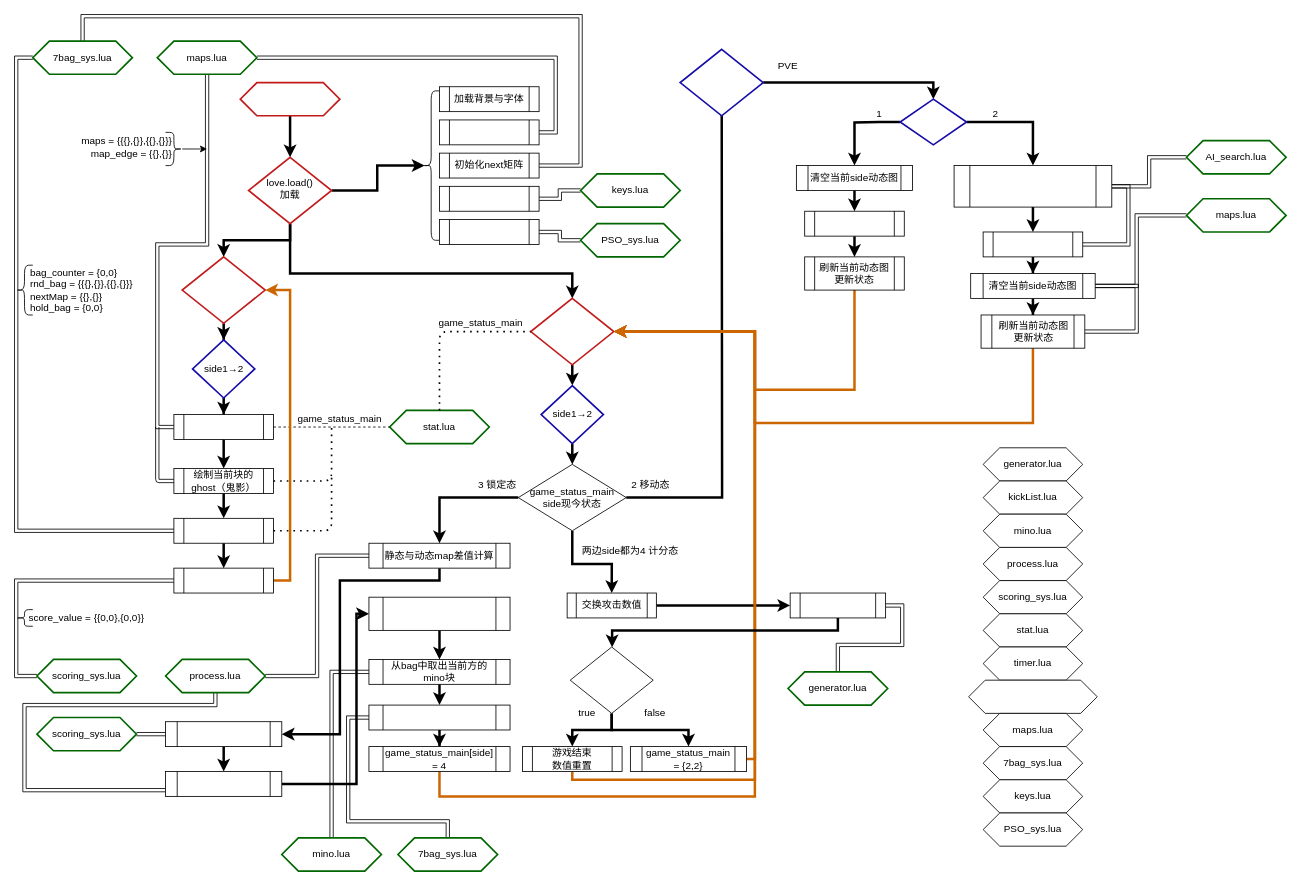
Image size: 1301x886. Some labels were removed from this diagram. The shapes that lost their labels are listed below. From the top down, each one's box as (x1, y1, x2, y2) in pixels, then its label:
(239, 81, 340, 116): main.lua
(679, 48, 764, 116): PVE/EVE
(439, 119, 539, 145): 初始化map矩阵
(899, 98, 967, 145): side
(439, 186, 539, 211): 初始化按键数值
(953, 165, 1112, 207): AI获取当前图状态，开始递归搜索，返回结果坐标
(439, 219, 539, 244): 初始化PSO算法
(804, 210, 904, 236): 读取键盘输入并操作，获得结果
(982, 231, 1083, 257): 获取对应结果mino
(181, 256, 266, 324): love.draw() 绘制
(530, 297, 614, 365): love.update(dt) 刷新
(173, 414, 273, 439): 绘制Map
(173, 518, 273, 543): 绘制hold区域
(173, 567, 273, 593): 绘制得分
(368, 596, 510, 630): 合并处理后的 动态/静态图
(789, 592, 886, 618): 垃圾行生成器
(569, 646, 653, 713): 判断游戏结束
(968, 679, 1097, 713): universal_functions.lua
(165, 721, 282, 747): 根据消行计算分数
(368, 704, 510, 730): 更新7bag系统对应当前方的bag
(165, 771, 282, 796): 清除消行
